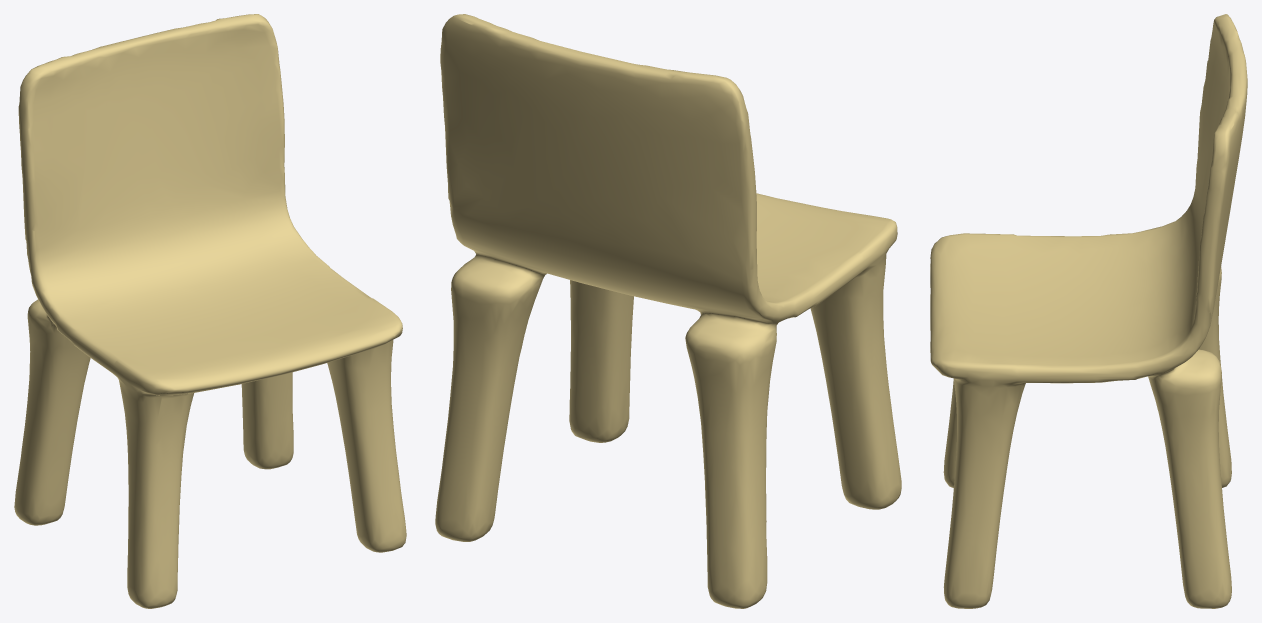
Rendered from children-chair.glb.
The picture shows the model from 3 angles, left to right: view 1: azimuth 30°, elevation 25°; view 2: azimuth 150°, elevation 25°; view 3: azimuth 270°, elevation 25°; orthographic projection. The views are drawn at different scales.
Visible parts, largest first — view 1: One-piece molded chair; view 2: One-piece molded chair; view 3: One-piece molded chair.
Boxes of the visible parts, <box> form: One-piece molded chair: <box>14,14,406,608</box>; One-piece molded chair: <box>435,14,901,608</box>; One-piece molded chair: <box>930,14,1247,608</box>.
Bounding box in the file's own units: 1.13 × 1.79 × 1.09.
